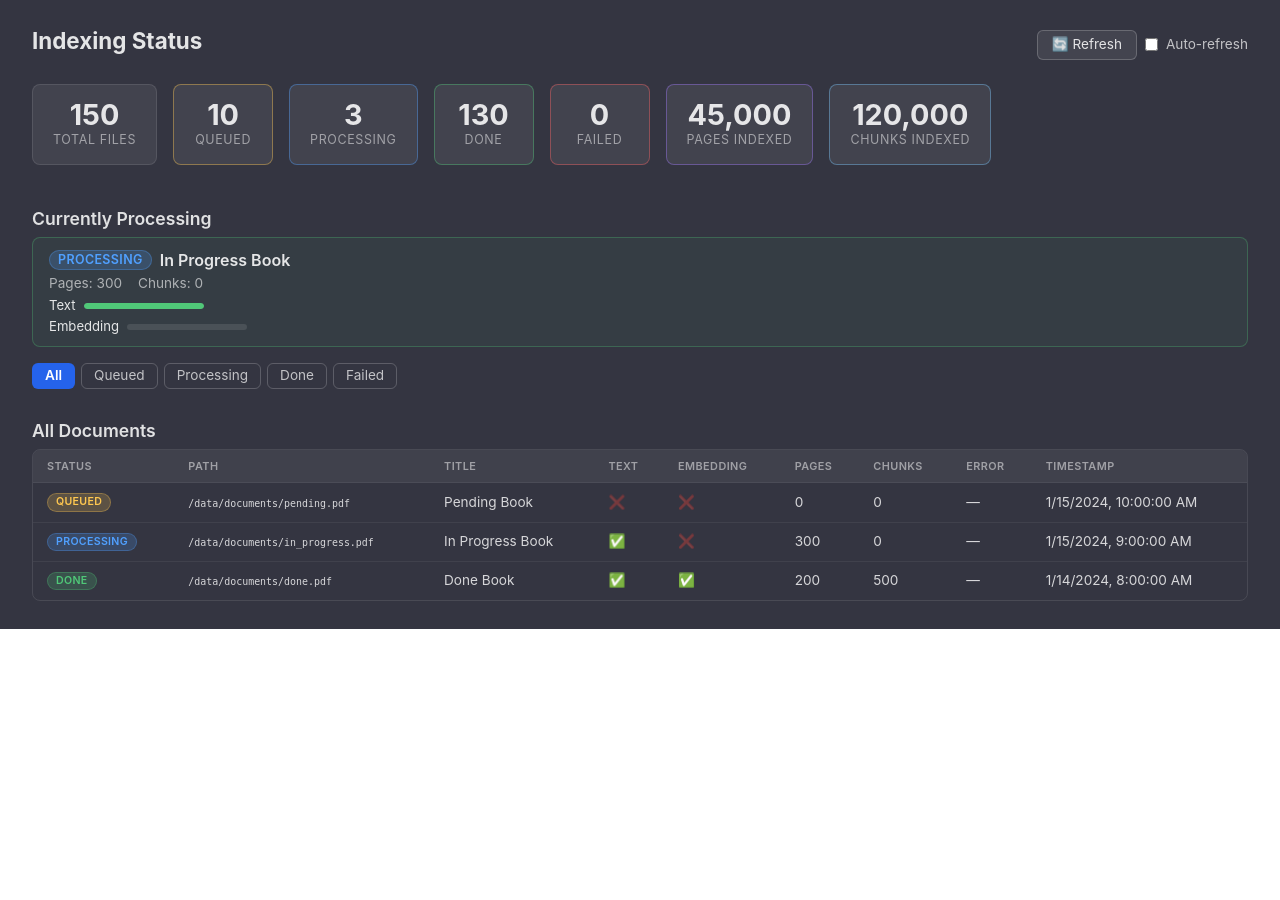
AdminIndexingStatusPage › shows empty state when filter has no matching documents
Expected: the heading "All Documents" is shown, [32,420,156,441]
Click "Failed" filter
Click the button "Failed" at {"x": 365, "y": 376}, box [333,363,397,389]
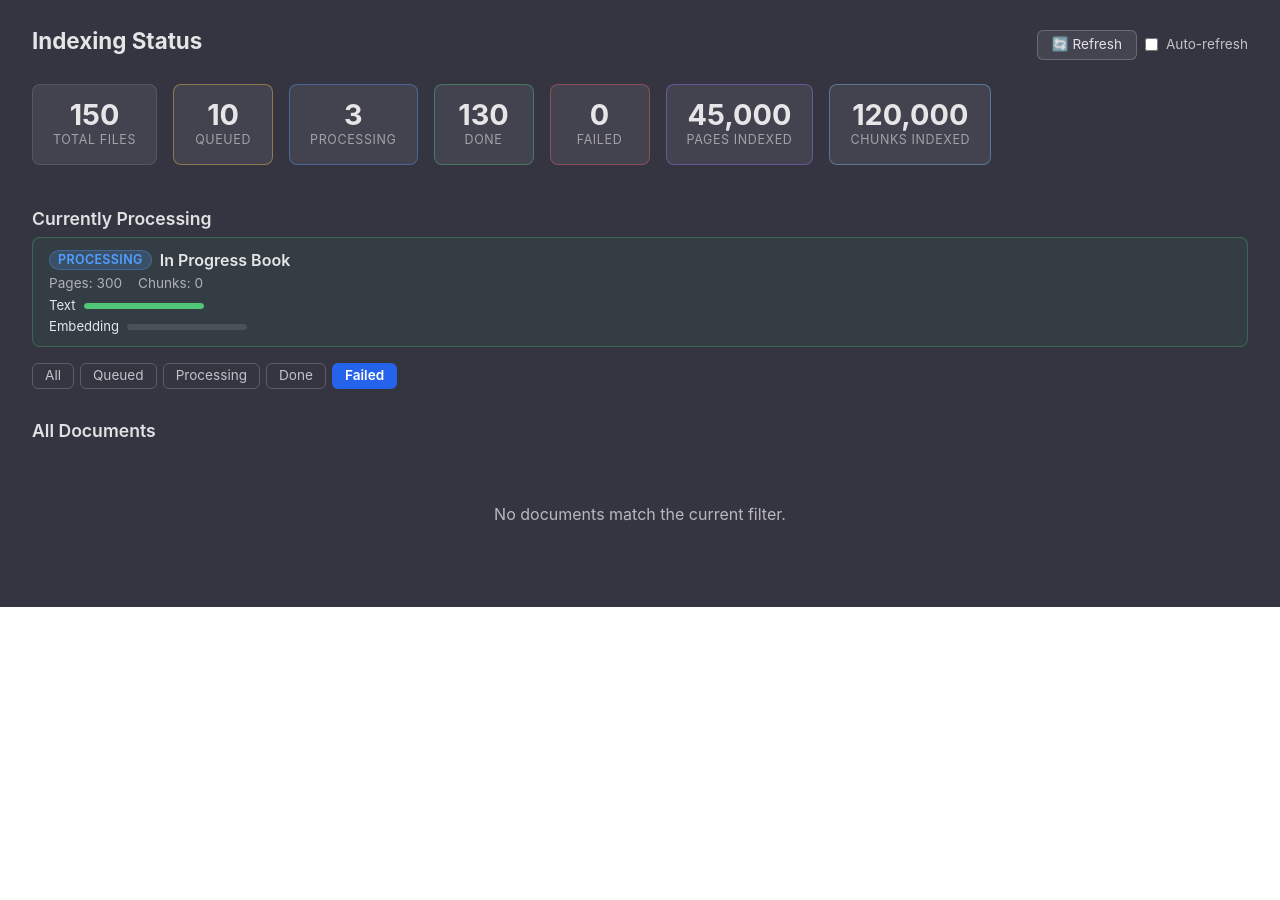
Result: the text "No documents match the current filter." is shown at [494,504,786,524]
